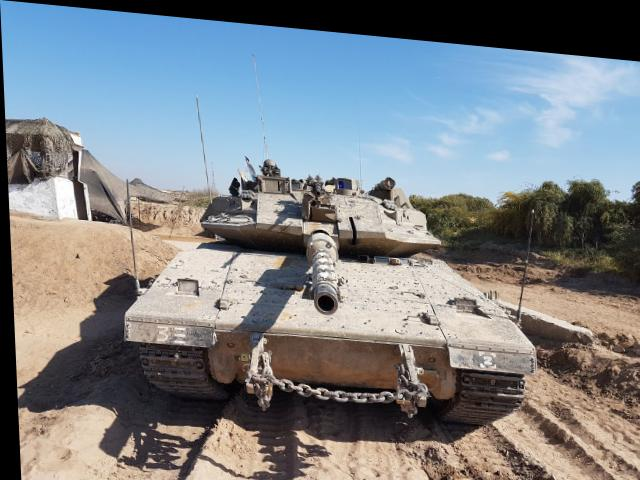other: (248, 147, 286, 175)
tank: (108, 164, 509, 433)
